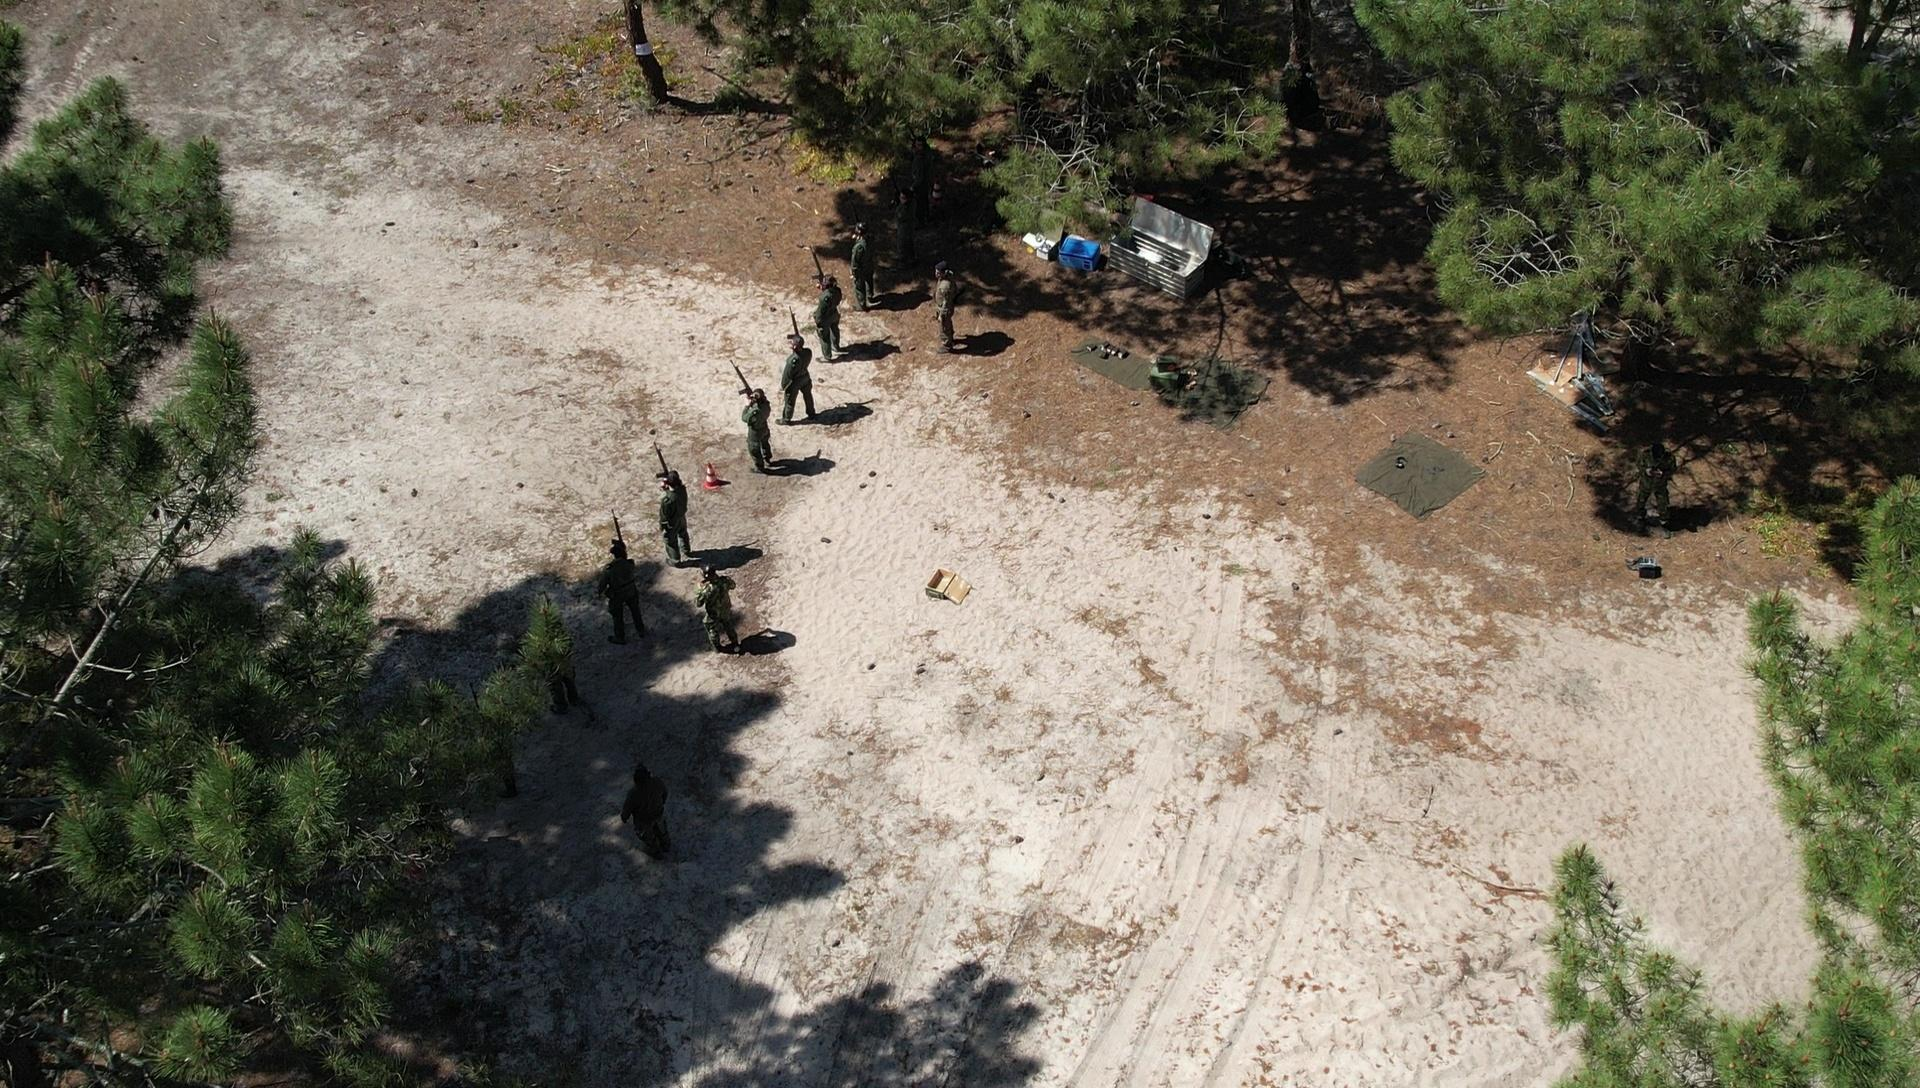Soldier: (609, 760, 684, 870), (595, 524, 655, 658), (690, 554, 748, 669), (731, 371, 783, 485), (651, 452, 700, 572), (810, 236, 851, 367), (779, 315, 823, 437), (920, 262, 976, 353), (1633, 437, 1680, 533), (848, 219, 887, 313), (895, 187, 927, 272)
